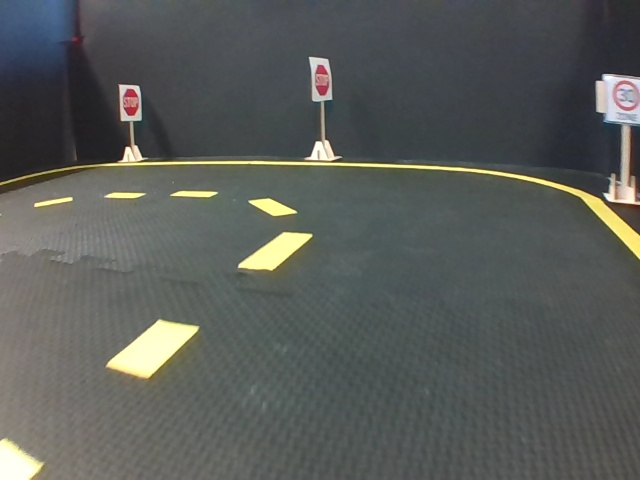30: (606, 73, 640, 120)
stop: (310, 57, 332, 100), (118, 83, 141, 120)
